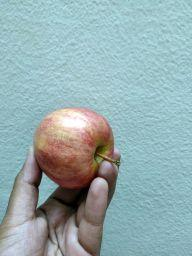apple: (23, 96, 132, 196)
